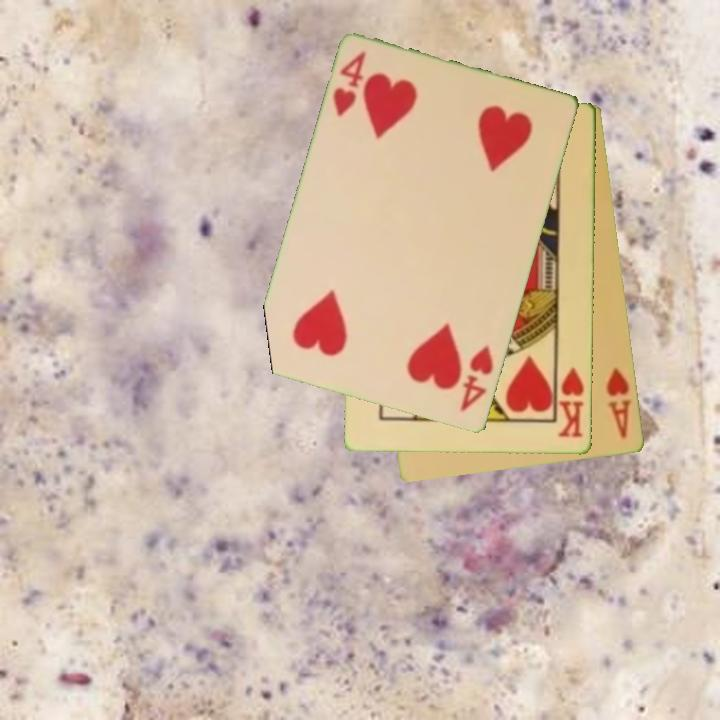4h: (329, 47, 370, 121), (457, 342, 497, 415)
Ah: (603, 364, 634, 442)
Kh: (554, 360, 587, 441)
